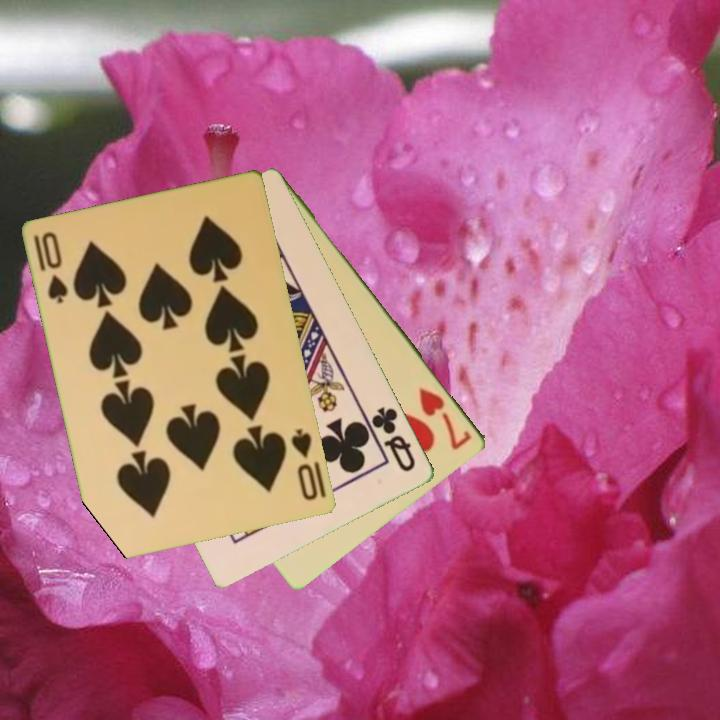10s: (30, 228, 72, 307), (288, 425, 321, 504)
7h: (415, 383, 475, 454)
Qc: (368, 403, 419, 475)
